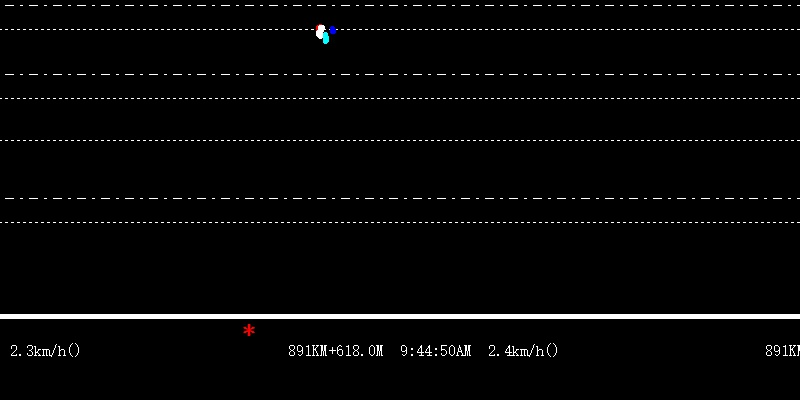face_2: (314, 21, 337, 48)
star: (240, 321, 259, 340)
